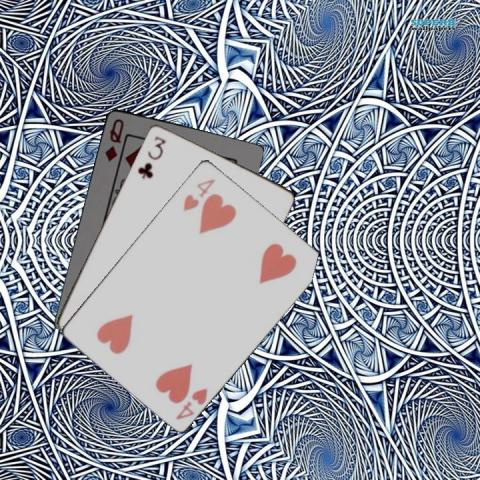3c: (134, 133, 167, 180)
4h: (180, 175, 217, 213), (173, 384, 209, 420)
Qd: (101, 116, 127, 170)
